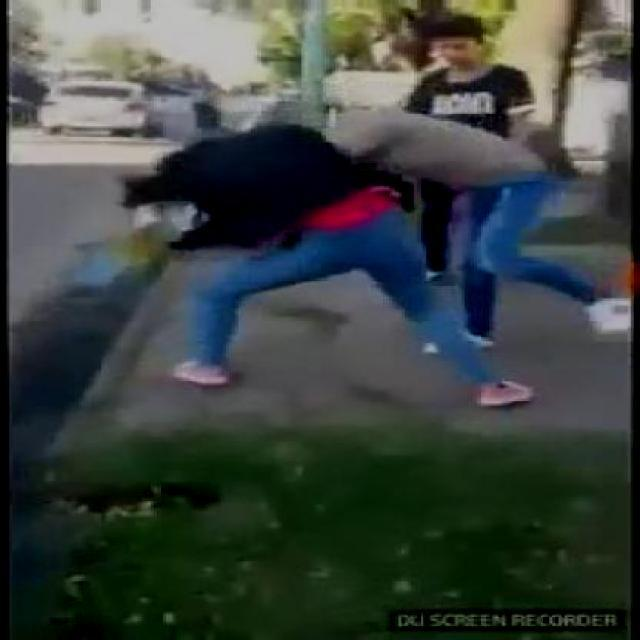fight: (133, 108, 627, 406)
